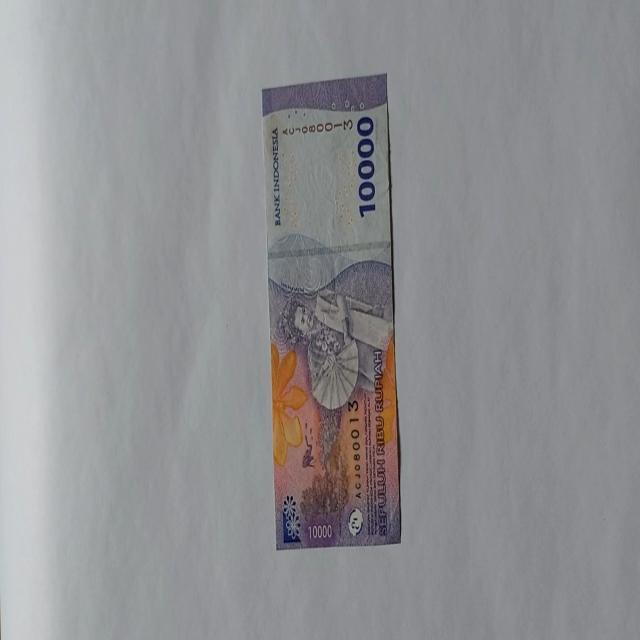sepuluh ribu rupiah: (260, 72, 402, 550)
